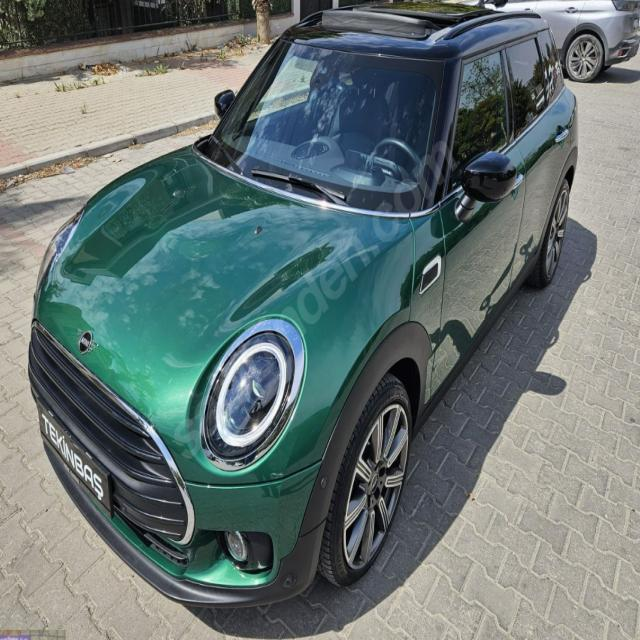mini: (74, 325, 101, 361)
